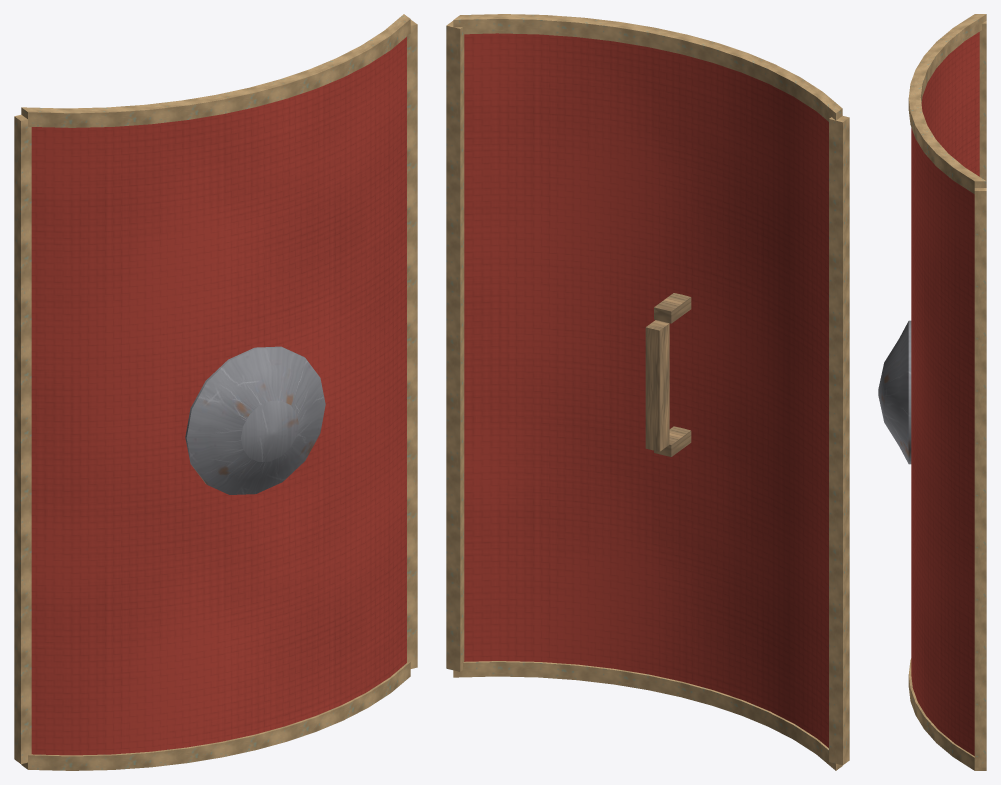
Rendered from scutum.glb.
The picture shows the model from 3 angles, left to right: view 1: azimuth 30°, elevation 25°; view 2: azimuth 150°, elevation 25°; view 3: azimuth 270°, elevation 25°; orthographic projection. The views are drawn at different scales.
Parts seen in each view (by area): view 1: OUT; view 2: OUT; view 3: OUT.
Part boxes in pixels (box(x1,y1,x2,y2)): OUT: box(14, 14, 417, 770); OUT: box(446, 14, 849, 770); OUT: box(878, 14, 986, 770).
Size of the model in its own units: 0.684 by 1.08 by 0.181.
4 materials, 4 textured.
